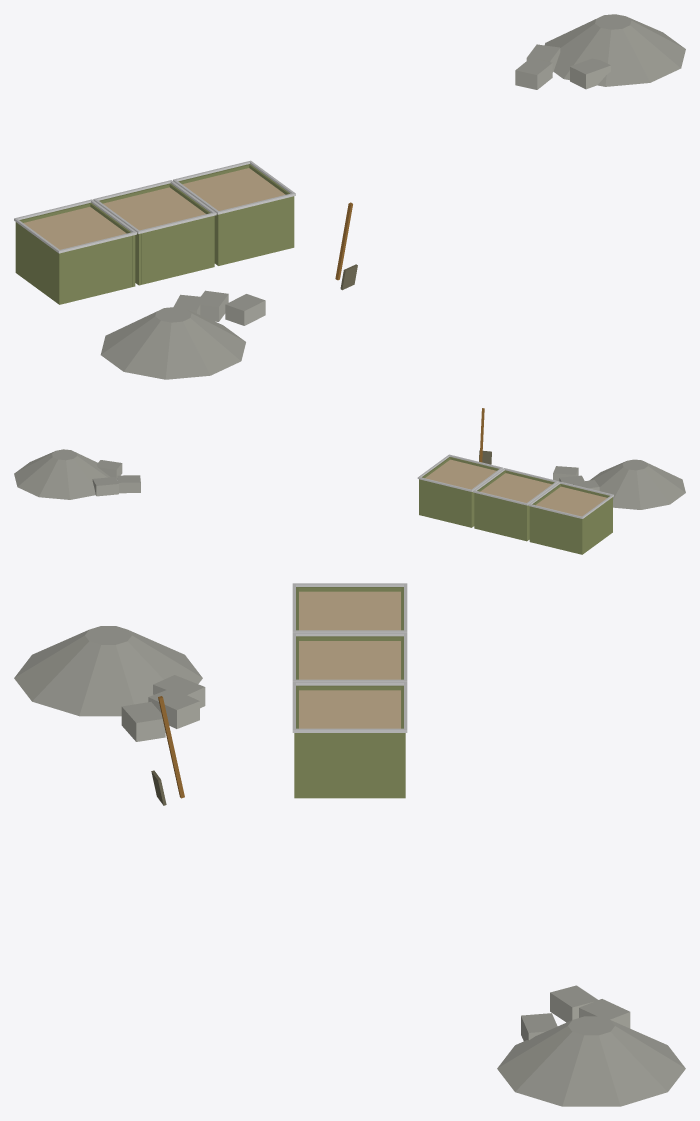
Rendered from SM_ObraReconstruccion_v0_10m_LOD0.fbx.
The picture shows the model from 3 angles, top to bottom: view 1: azimuth 30°, elevation 25°; view 2: azimuth 150°, elevation 25°; view 3: azimuth 270°, elevation 25°; orthographic projection. The views are drawn at different scales.
Parts seen in each view (by area): view 1: SM_obra_curso_v41_LOD0; view 2: SM_obra_curso_v41_LOD0; view 3: SM_obra_curso_v41_LOD0.
Boxes of the visible parts, x1,y1,x2,y2 form: SM_obra_curso_v41_LOD0: (14, 14, 685, 379); SM_obra_curso_v41_LOD0: (14, 408, 685, 554); SM_obra_curso_v41_LOD0: (14, 583, 685, 1106).
Bounding box in the file's own units: 10.51 × 1.11 × 6.4.
